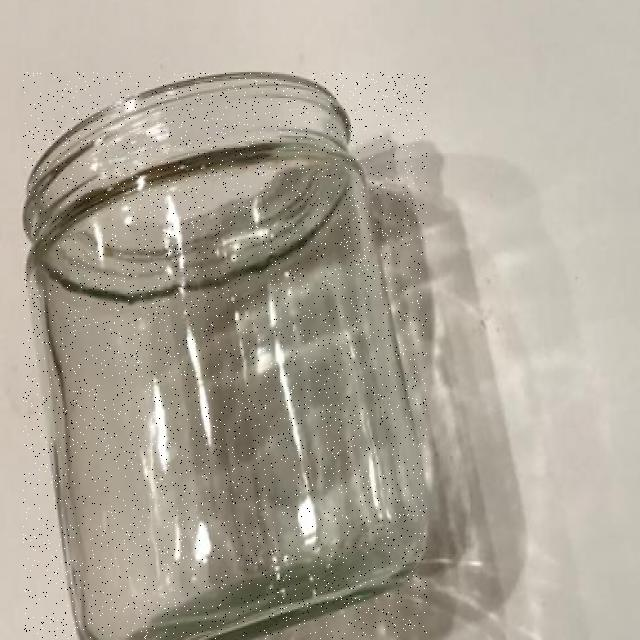glass: (23, 72, 427, 640)
